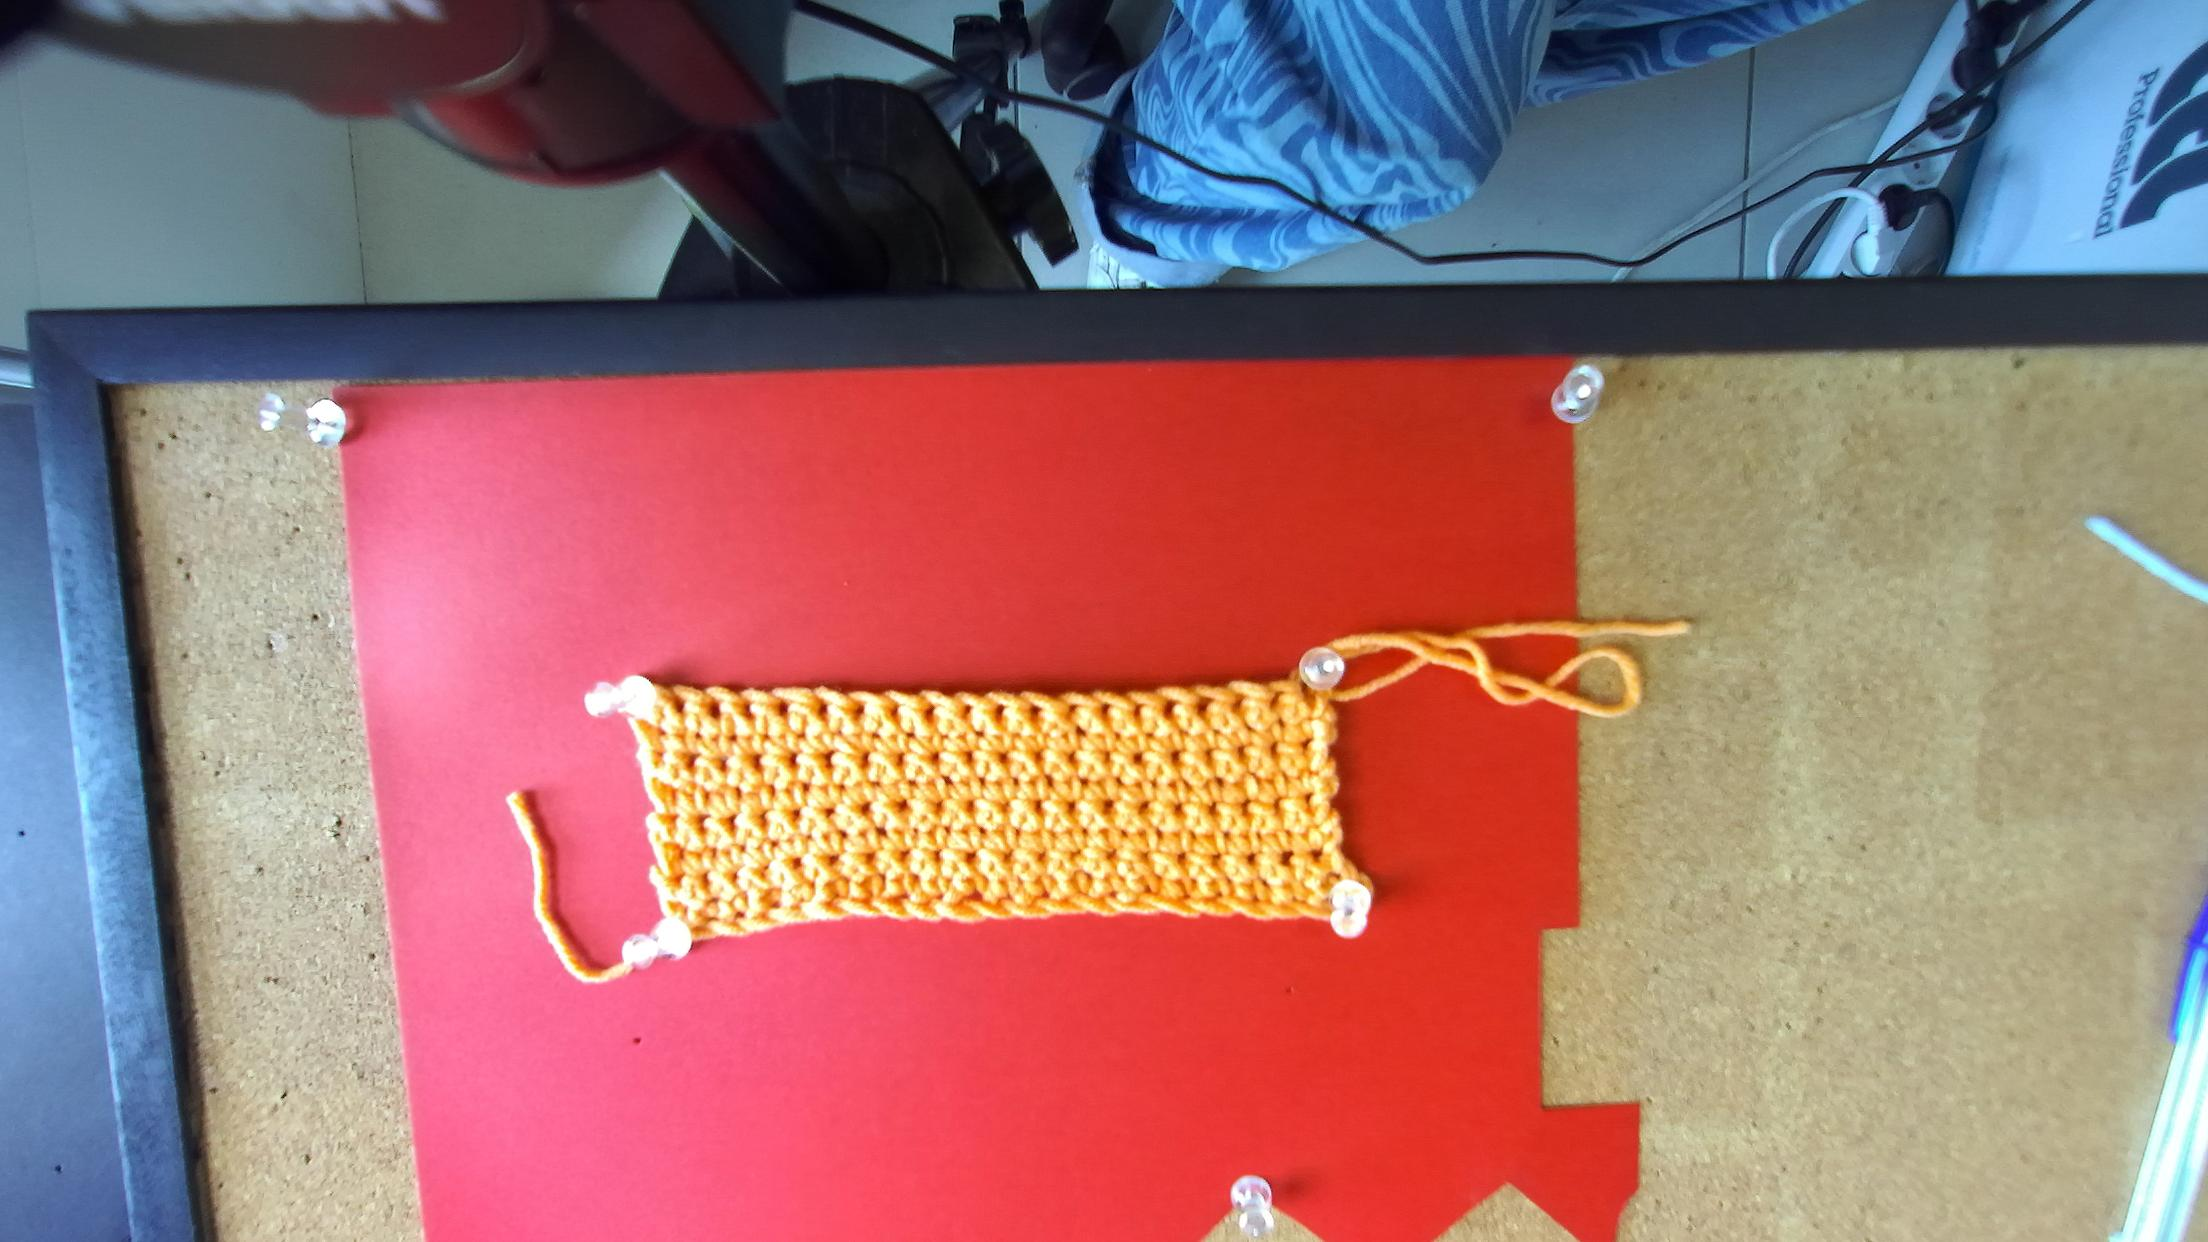hole: (1198, 696, 1215, 719), (1163, 701, 1181, 720), (670, 693, 687, 713), (739, 701, 755, 720), (708, 696, 722, 719), (851, 701, 866, 720), (924, 702, 937, 723), (775, 699, 792, 716), (1098, 702, 1113, 719), (1233, 693, 1247, 711), (1269, 692, 1283, 710), (1028, 704, 1043, 719), (817, 699, 830, 717), (993, 704, 1007, 719), (889, 702, 901, 719), (961, 704, 974, 720), (1068, 704, 1081, 716), (1134, 704, 1145, 719), (1303, 685, 1310, 701)
swatch: (585, 676, 1374, 964)
